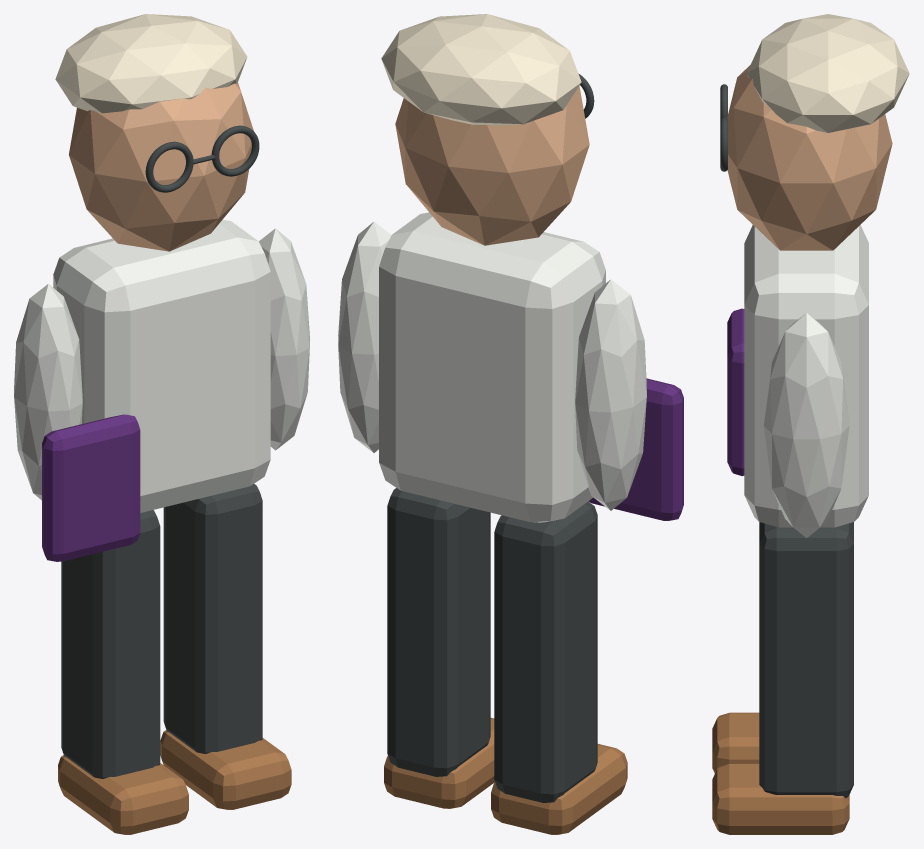
The model's file is professor.glb.
3 views of the same model, side by side, from view 1: azimuth 30°, elevation 25°; view 2: azimuth 150°, elevation 25°; view 3: azimuth 270°, elevation 25° (orthographic). The views are drawn at different scales.
Visible parts, largest first — view 1: professor_coat, professor_leg.001, professor_leg, professor_head, professor_hair, professor_book, professor_arm, professor_arm.001, professor_shoe, professor_shoe.001, professor_glasses, professor_glasses.001; view 2: professor_coat, professor_leg, professor_leg.001, professor_head, professor_hair, professor_arm, professor_arm.001, professor_book, professor_shoe, professor_shoe.001; view 3: professor_leg.001, professor_coat, professor_head, professor_hair, professor_arm.001, professor_shoe.001, professor_book, professor_shoe, professor_glasses.001.
Boxes of the visible parts, bbox=[...] form: professor_coat: bbox=[53, 219, 270, 512]; professor_leg.001: bbox=[163, 484, 262, 753]; professor_leg: bbox=[61, 510, 160, 778]; professor_head: bbox=[69, 82, 253, 251]; professor_hair: bbox=[55, 14, 247, 113]; professor_book: bbox=[42, 414, 140, 561]; professor_arm: bbox=[14, 284, 82, 500]; professor_arm.001: bbox=[259, 228, 309, 450]; professor_shoe: bbox=[58, 755, 188, 834]; professor_shoe.001: bbox=[160, 730, 291, 809]; professor_glasses: bbox=[145, 141, 193, 192]; professor_glasses.001: bbox=[211, 125, 259, 176]; professor_coat: bbox=[379, 212, 605, 522]; professor_leg: bbox=[494, 502, 597, 802]; professor_leg.001: bbox=[387, 488, 490, 776]; professor_head: bbox=[395, 86, 589, 245]; professor_hair: bbox=[381, 14, 581, 125]; professor_arm: bbox=[575, 279, 646, 510]; professor_arm.001: bbox=[338, 221, 391, 452]; professor_book: bbox=[588, 378, 683, 520]; professor_shoe: bbox=[491, 744, 627, 834]; professor_shoe.001: bbox=[384, 717, 494, 808]; professor_leg.001: bbox=[759, 522, 853, 798]; professor_coat: bbox=[744, 225, 868, 527]; professor_head: bbox=[727, 65, 892, 250]; professor_hair: bbox=[746, 14, 909, 132]; professor_arm.001: bbox=[763, 312, 849, 537]; professor_shoe.001: bbox=[712, 763, 849, 834]; professor_book: bbox=[727, 308, 744, 476]; professor_shoe: bbox=[712, 712, 759, 773]; professor_glasses.001: bbox=[720, 117, 727, 171].
Bounding box in the file's own units: 0.7961 × 1.97 × 0.46.
